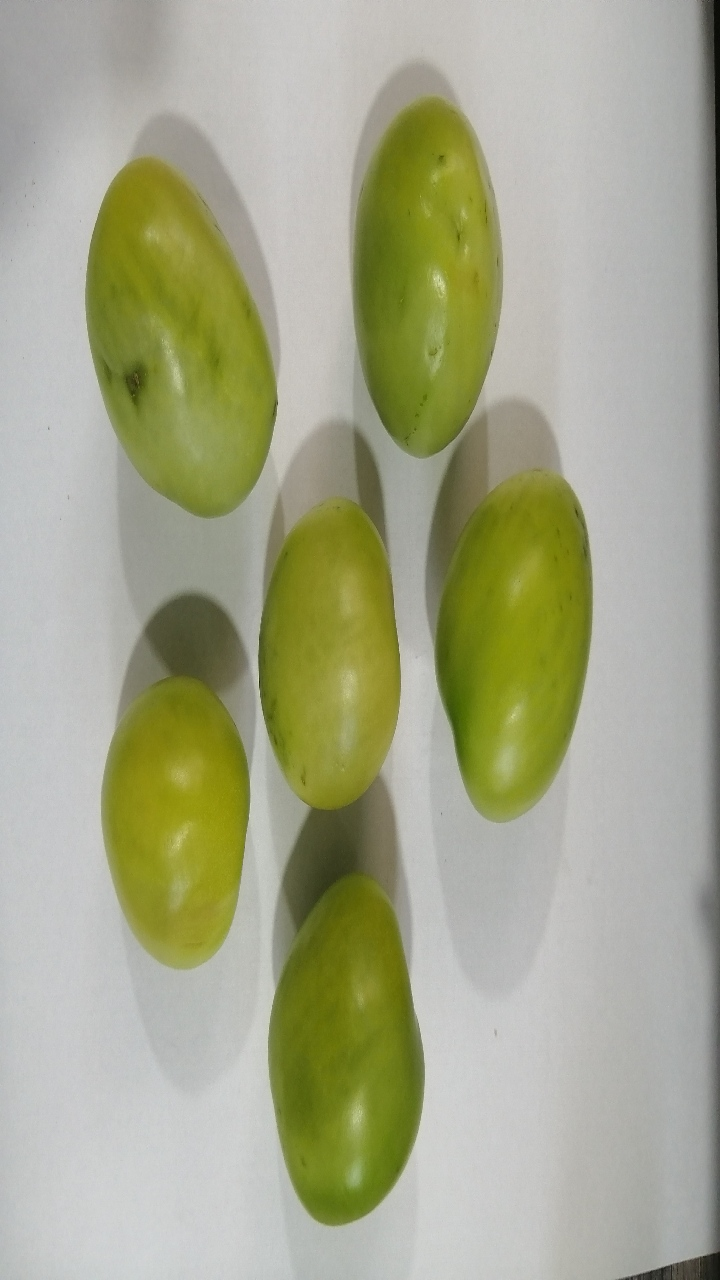tomateVerde: (49, 137, 320, 549), (311, 80, 534, 474), (411, 459, 629, 848), (223, 494, 429, 863), (246, 860, 437, 1234), (80, 655, 266, 994)
